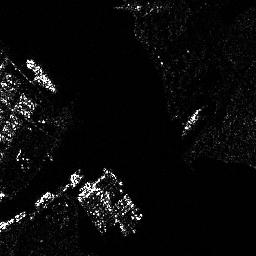ship: (24, 57, 56, 93), (183, 107, 201, 130)
